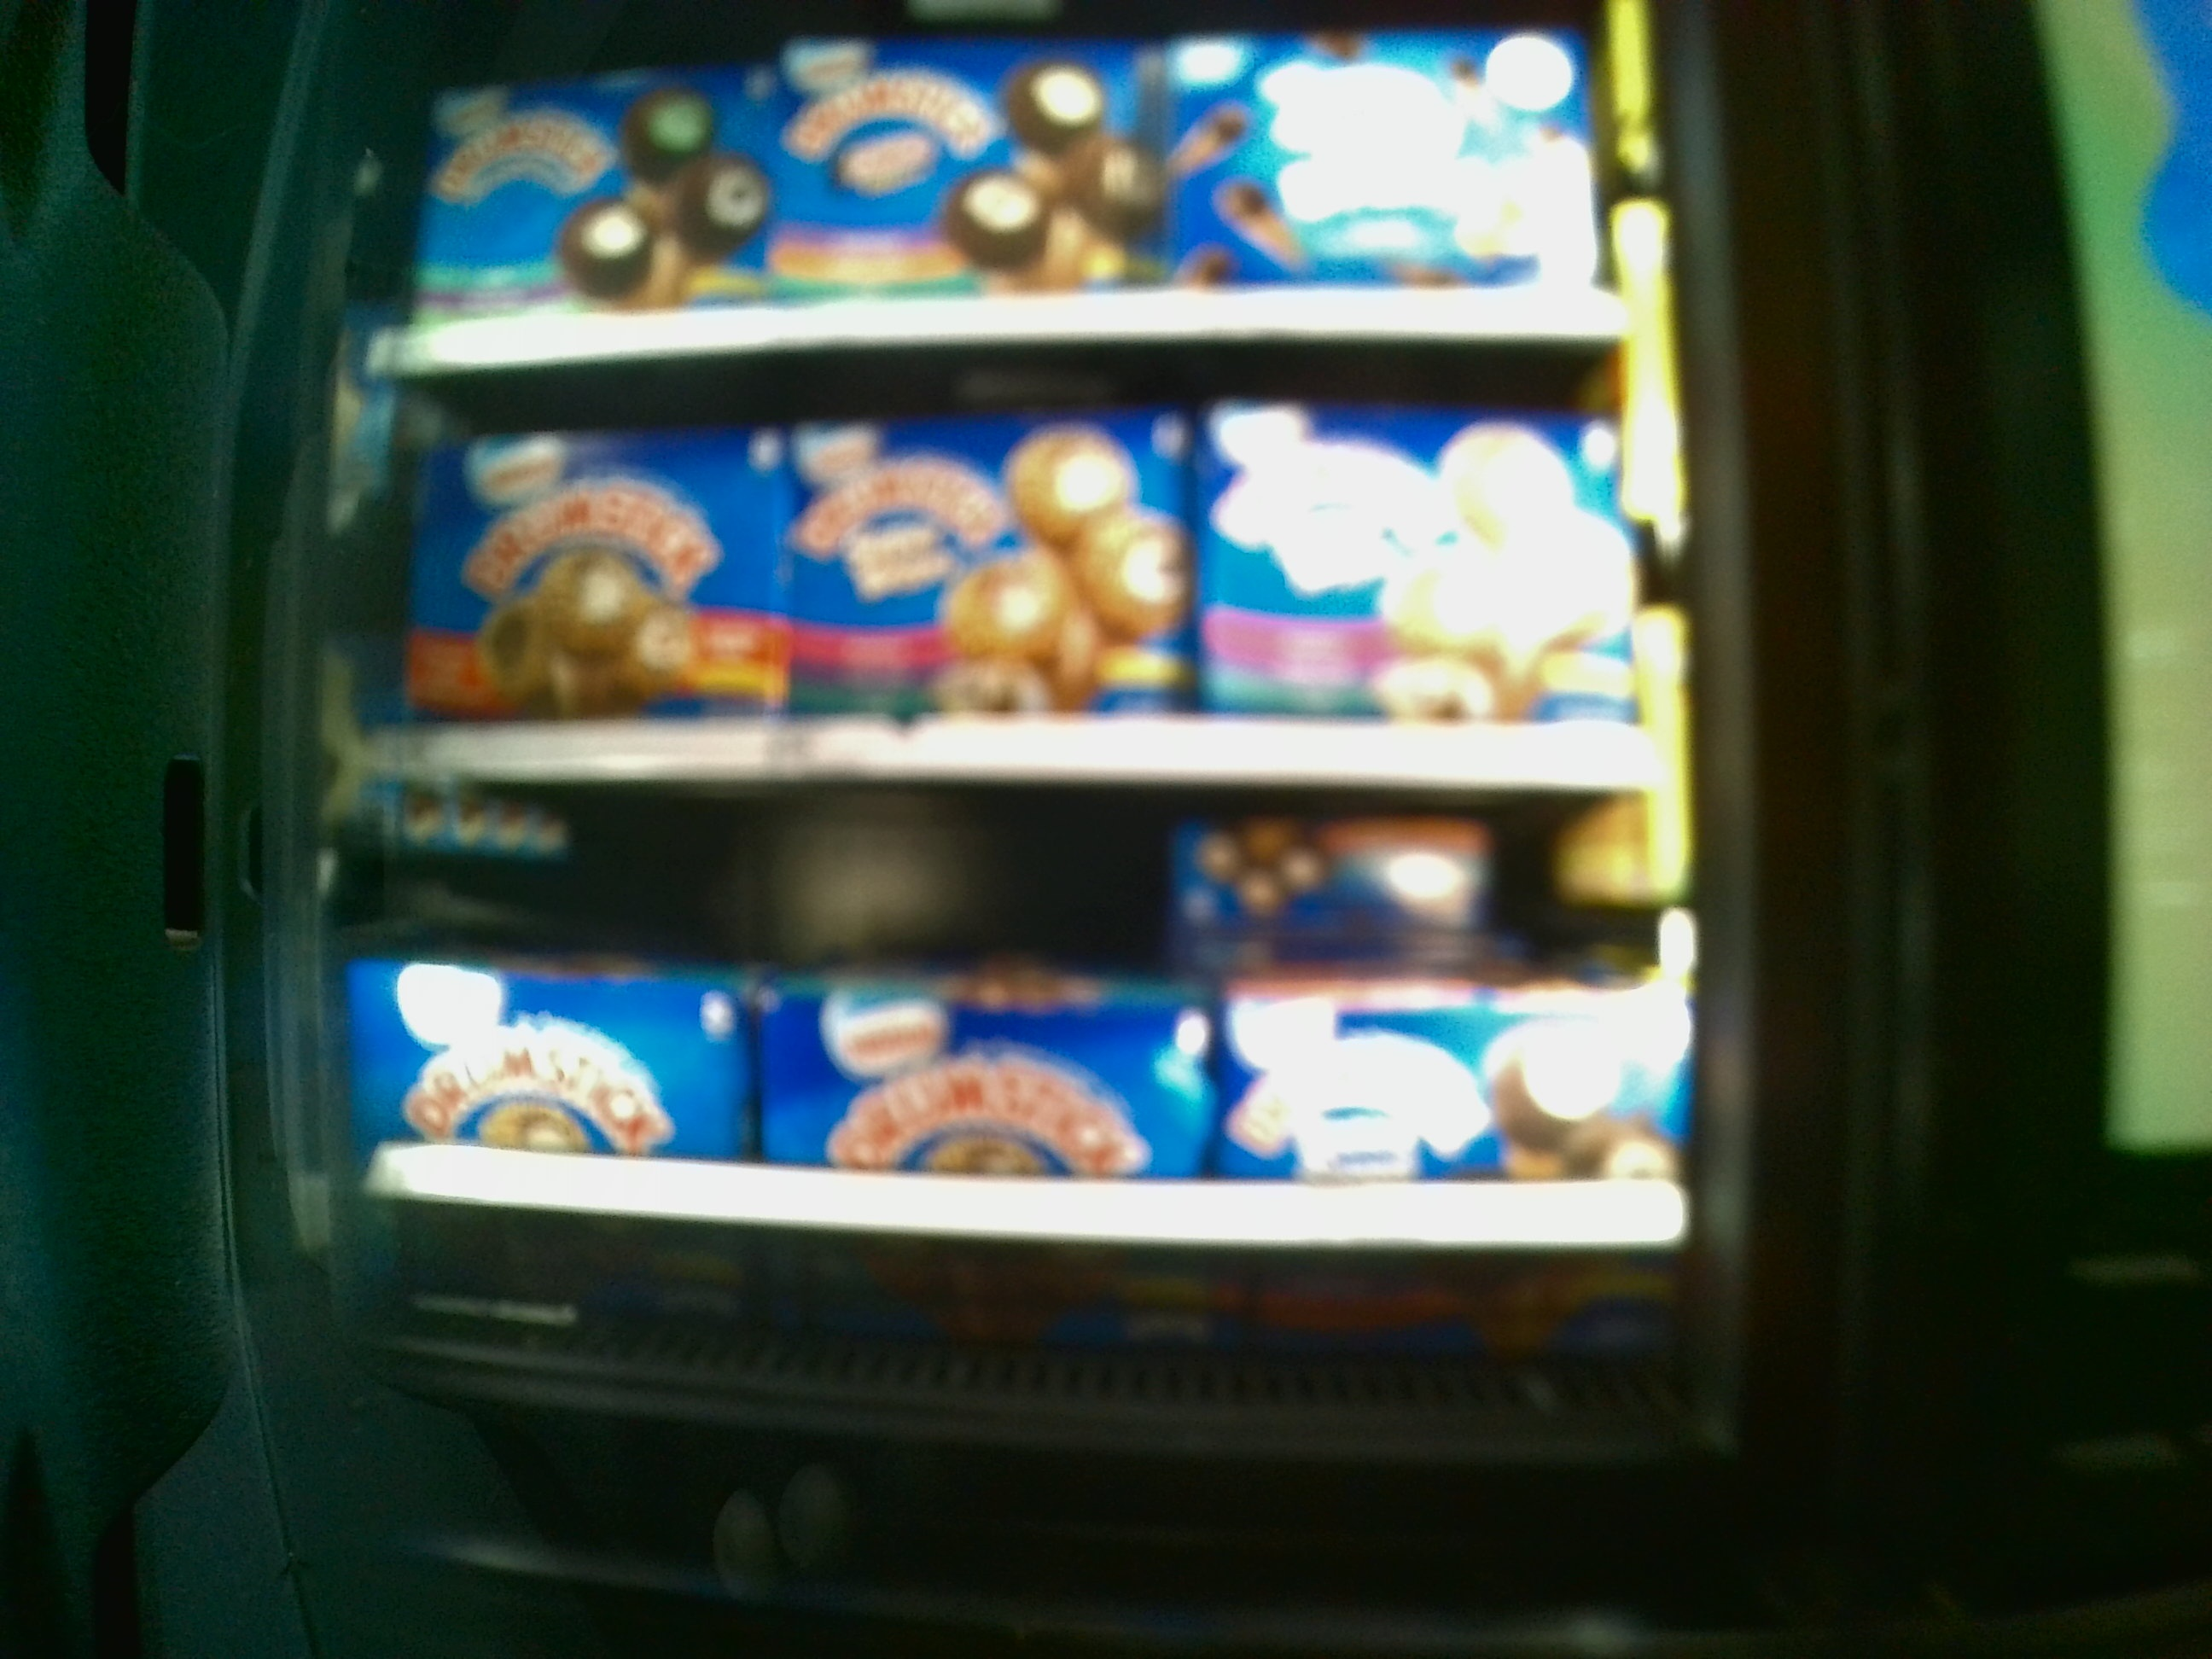shelf: (371, 795, 1669, 1368), (369, 352, 1665, 786)
